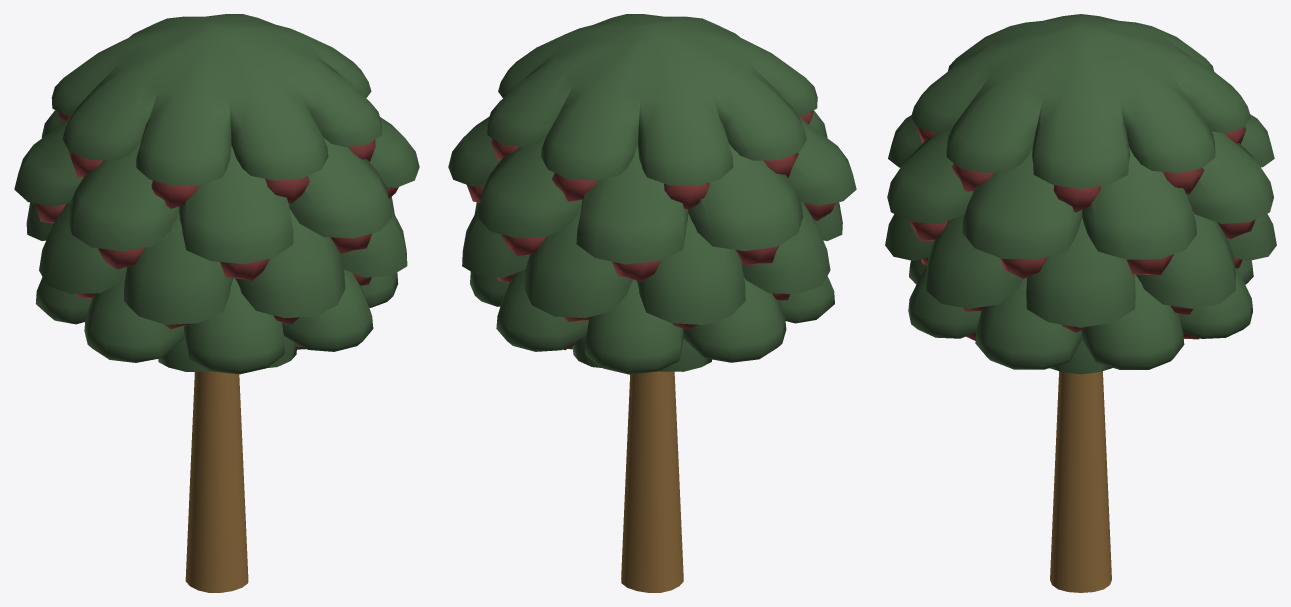
File: Tree_Fruit.glb
The picture shows the model from 3 angles, left to right: view 1: azimuth 30°, elevation 25°; view 2: azimuth 150°, elevation 25°; view 3: azimuth 270°, elevation 25°; orthographic projection.
Visible parts, largest first — view 1: Tree_Fruit; view 2: Tree_Fruit; view 3: Tree_Fruit.
Part boxes in pixels (<box>): Tree_Fruit: <box>14,14,419,592</box>; Tree_Fruit: <box>448,14,856,592</box>; Tree_Fruit: <box>885,14,1276,592</box>.
Size of the model in its own units: 5.53 by 8.63 by 5.55.
